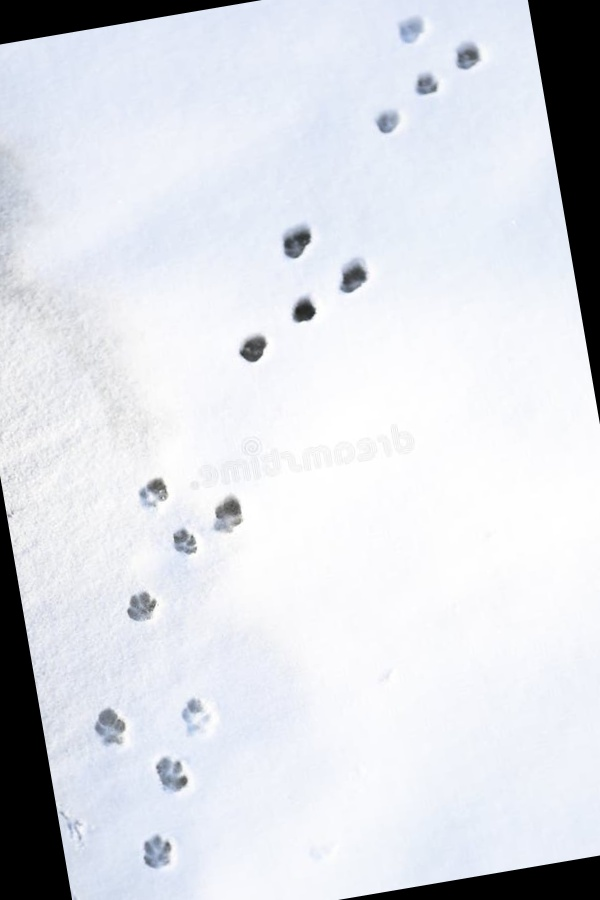rabbit: (182, 187, 416, 424)
